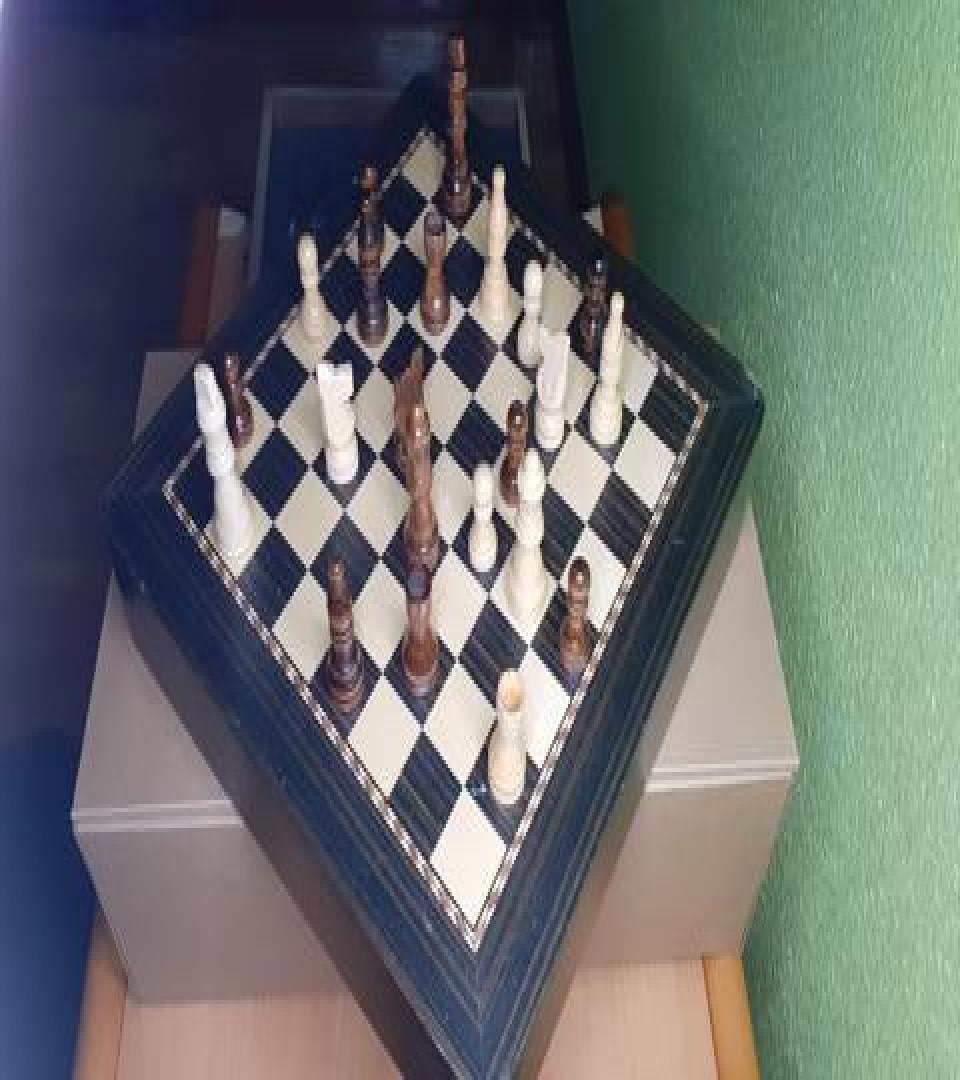xcorner: (419, 182, 431, 206), (392, 224, 404, 248), (363, 266, 375, 290), (333, 310, 345, 334), (300, 358, 312, 382), (266, 410, 278, 434), (229, 464, 241, 488), (451, 214, 463, 238), (424, 256, 436, 280), (396, 302, 408, 326), (365, 348, 377, 372), (333, 400, 345, 424), (299, 452, 311, 476), (262, 510, 274, 534), (484, 248, 496, 272), (458, 292, 470, 316), (430, 340, 442, 364), (400, 388, 412, 412), (368, 442, 380, 466), (334, 498, 346, 522), (297, 560, 309, 584), (519, 284, 531, 308), (493, 330, 505, 354), (465, 378, 477, 402), (436, 430, 448, 454), (404, 486, 416, 510), (370, 546, 382, 570), (334, 610, 346, 634), (556, 320, 568, 344), (530, 368, 542, 392), (503, 420, 515, 444), (474, 474, 486, 498), (442, 534, 454, 558), (409, 596, 421, 620), (373, 664, 385, 688), (594, 358, 606, 382), (569, 410, 581, 434), (542, 464, 554, 488), (514, 522, 526, 546), (483, 584, 495, 608), (450, 650, 462, 674), (415, 722, 427, 746), (634, 398, 646, 422), (610, 452, 622, 476), (584, 510, 596, 534), (556, 570, 568, 594), (526, 636, 538, 660), (494, 708, 506, 732), (459, 784, 471, 808)
